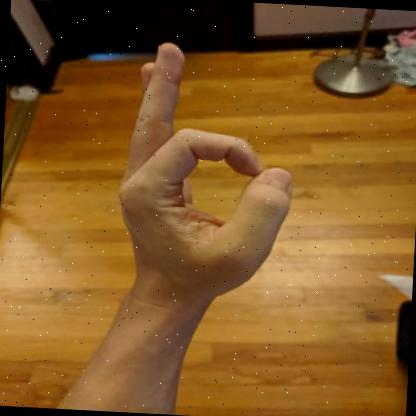D: (118, 44, 293, 315)
